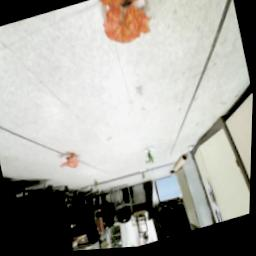herb: (143, 151, 158, 170)
wild: (95, 1, 158, 53), (58, 152, 84, 176)
